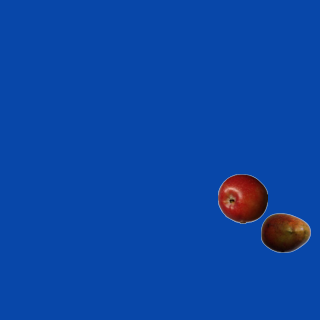Apple Braeburn: (217, 173, 267, 223)
Mango Red: (260, 207, 310, 257)
